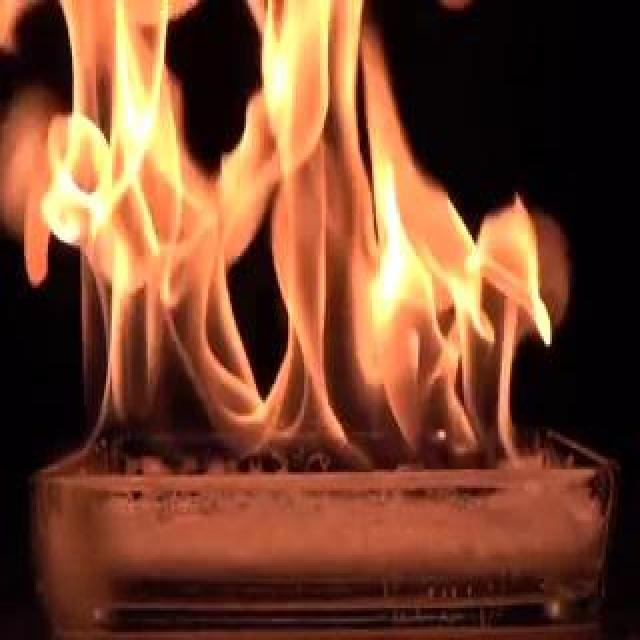Fire: (62, 2, 566, 482)
